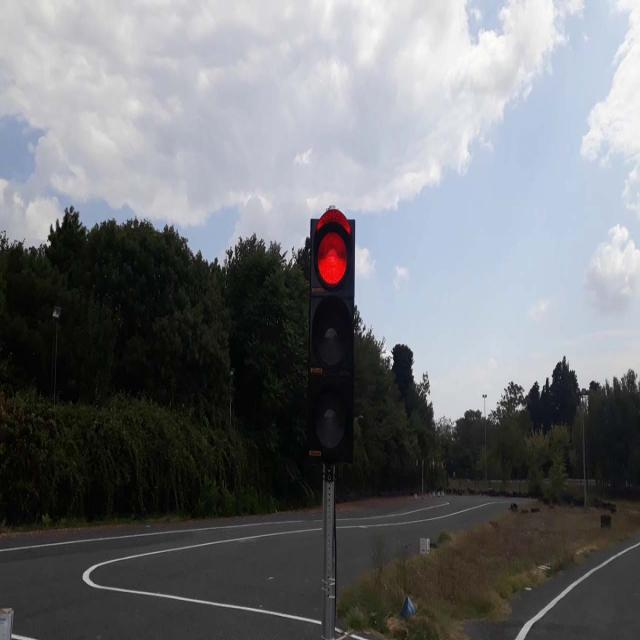kirmizi: (310, 205, 354, 456)
